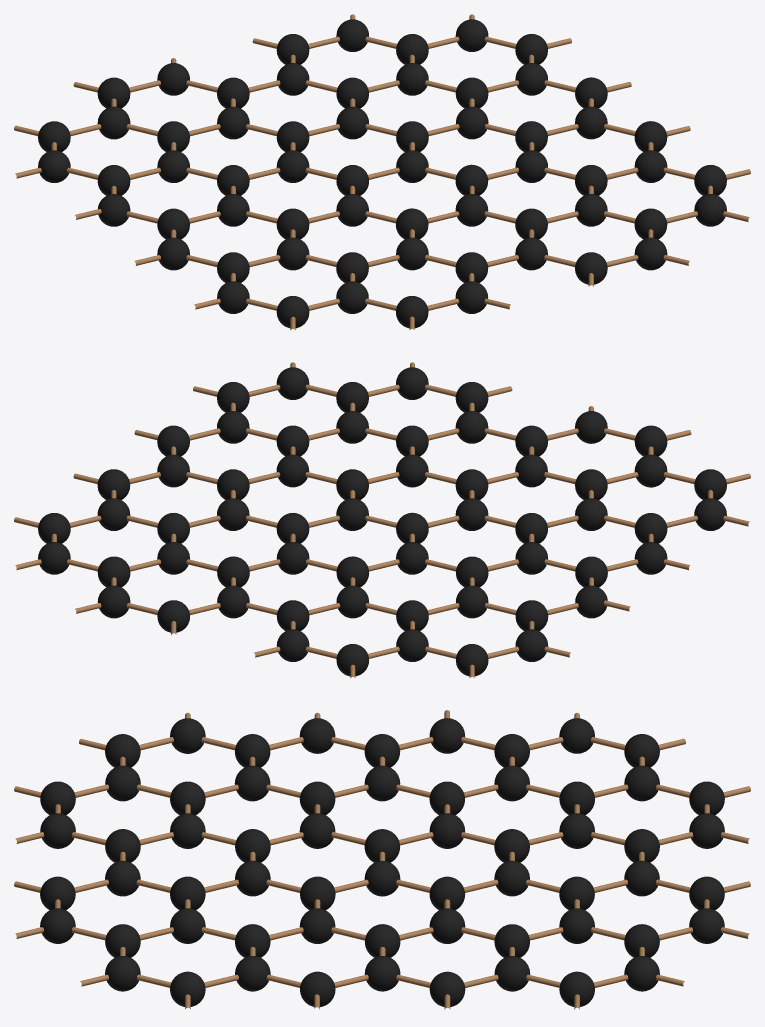
The model's file is index.gltf.
The picture shows the model from 3 angles, top to bottom: view 1: azimuth 30°, elevation 25°; view 2: azimuth 150°, elevation 25°; view 3: azimuth 270°, elevation 25°; orthographic projection. The views are drawn at different scales.
Visible parts, largest first — view 1: node_Sphere162_-65412, node_Sphere131_-65350, node_Sphere156_-65400, node_Sphere137_-65362, node_Sphere115_-65318, node_Sphere104_-65296, node_Sphere164_-65416, node_Sphere150_-65388, node_Sphere127_-65342, node_Sphere107_-65302, node_Sphere108_-65304, node_Sphere153_-65394 (+50 smaller); view 2: node_Sphere128_-65344, node_Sphere153_-65394, node_Sphere156_-65400, node_Sphere133_-65354, node_Sphere158_-65404, node_Sphere141_-65370, node_Sphere131_-65350, node_Sphere149_-65386, node_Sphere137_-65362, node_Sphere125_-65338, node_Sphere107_-65302, node_Sphere108_-65304 (+50 smaller); view 3: node_Sphere115_-65318, node_Sphere125_-65338, node_Sphere162_-65412, node_Sphere143_-65374, node_Sphere137_-65362, node_Sphere131_-65350, node_Sphere127_-65342, node_Sphere153_-65394, node_Sphere142_-65372, node_Sphere123_-65334, node_Sphere144_-65376, node_Sphere126_-65340 (+50 smaller).
Part boxes in pixels (x1,y1,x2,y2): node_Sphere162_-65412: (634,237,667,270); node_Sphere131_-65350: (396,63,428,95); node_Sphere156_-65400: (575,106,607,139); node_Sphere137_-65362: (396,150,428,182); node_Sphere115_-65318: (217,194,249,226); node_Sphere104_-65296: (157,63,189,95); node_Sphere164_-65416: (694,194,726,226); node_Sphere150_-65388: (336,281,368,313); node_Sphere127_-65342: (336,194,368,226); node_Sphere107_-65302: (97,106,130,139); node_Sphere108_-65304: (217,106,249,139); node_Sphere153_-65394: (575,194,607,226); node_Sphere128_-65344: (396,542,428,574); node_Sphere153_-65394: (336,411,368,443); node_Sphere156_-65400: (157,454,189,487); node_Sphere133_-65354: (38,542,70,574); node_Sphere158_-65404: (575,411,607,443); node_Sphere141_-65370: (515,454,547,487); node_Sphere131_-65350: (157,542,189,574); node_Sphere149_-65386: (217,411,249,443); node_Sphere137_-65362: (336,498,368,530); node_Sphere125_-65338: (575,498,607,530); node_Sphere107_-65302: (396,629,428,661); node_Sphere108_-65304: (336,585,368,618); node_Sphere115_-65318: (364,765,400,801); node_Sphere125_-65338: (234,765,270,801); node_Sphere162_-65412: (40,908,75,943); node_Sphere143_-65374: (429,908,465,943); node_Sphere137_-65362: (364,860,400,896); node_Sphere131_-65350: (559,908,594,943); node_Sphere127_-65342: (299,813,335,848); node_Sphere153_-65394: (170,908,205,943); node_Sphere142_-65372: (299,908,335,943); node_Sphere123_-65334: (689,908,724,943); node_Sphere144_-65376: (494,956,530,991); node_Sphere126_-65340: (299,718,335,753).
Bounding box in the file's own units: 0.942 × 0.0482 × 0.9942.
